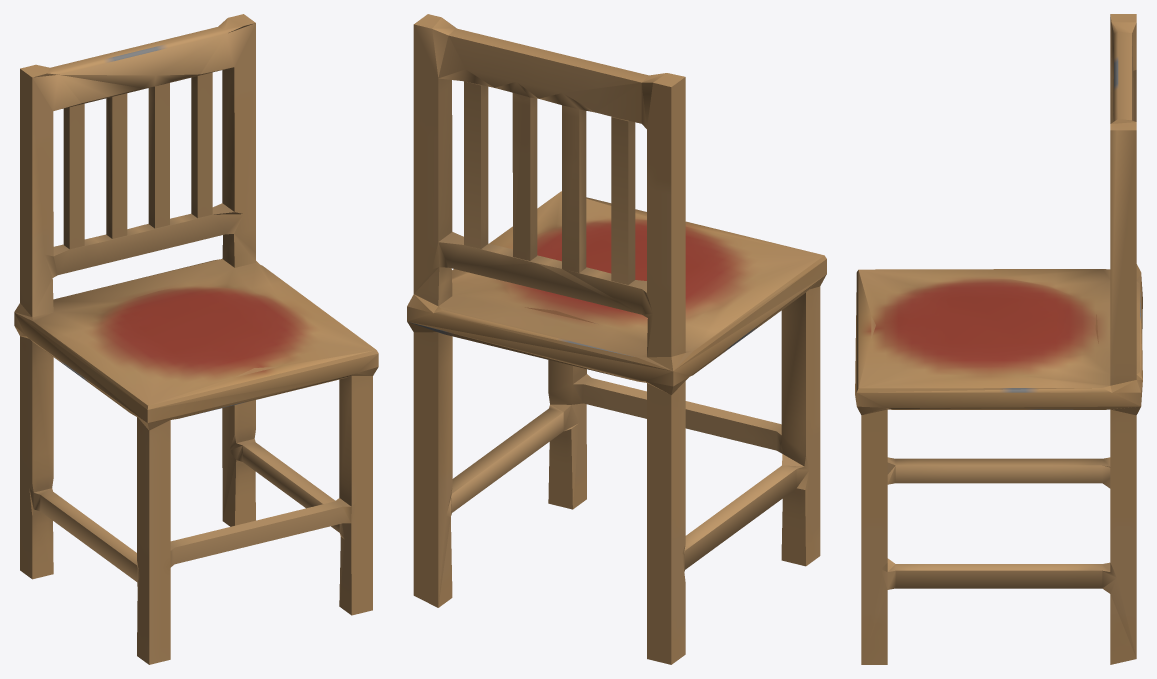
Rendered from chair_edits.far.glb.
3 renders of one model, left to right at view 1: azimuth 30°, elevation 25°; view 2: azimuth 150°, elevation 25°; view 3: azimuth 270°, elevation 25°, orthographic. The views are drawn at different scales.
Parts seen in each view (by area): view 1: chair_edits; view 2: chair_edits; view 3: chair_edits.
Part boxes in pixels (<box>): chair_edits: <box>14,14,378,664</box>; chair_edits: <box>407,14,826,664</box>; chair_edits: <box>855,14,1142,664</box>.
Bounding box in the file's own units: 0.4394 × 0.9 × 0.4394.
Materials: 1 (1 with a texture image).
